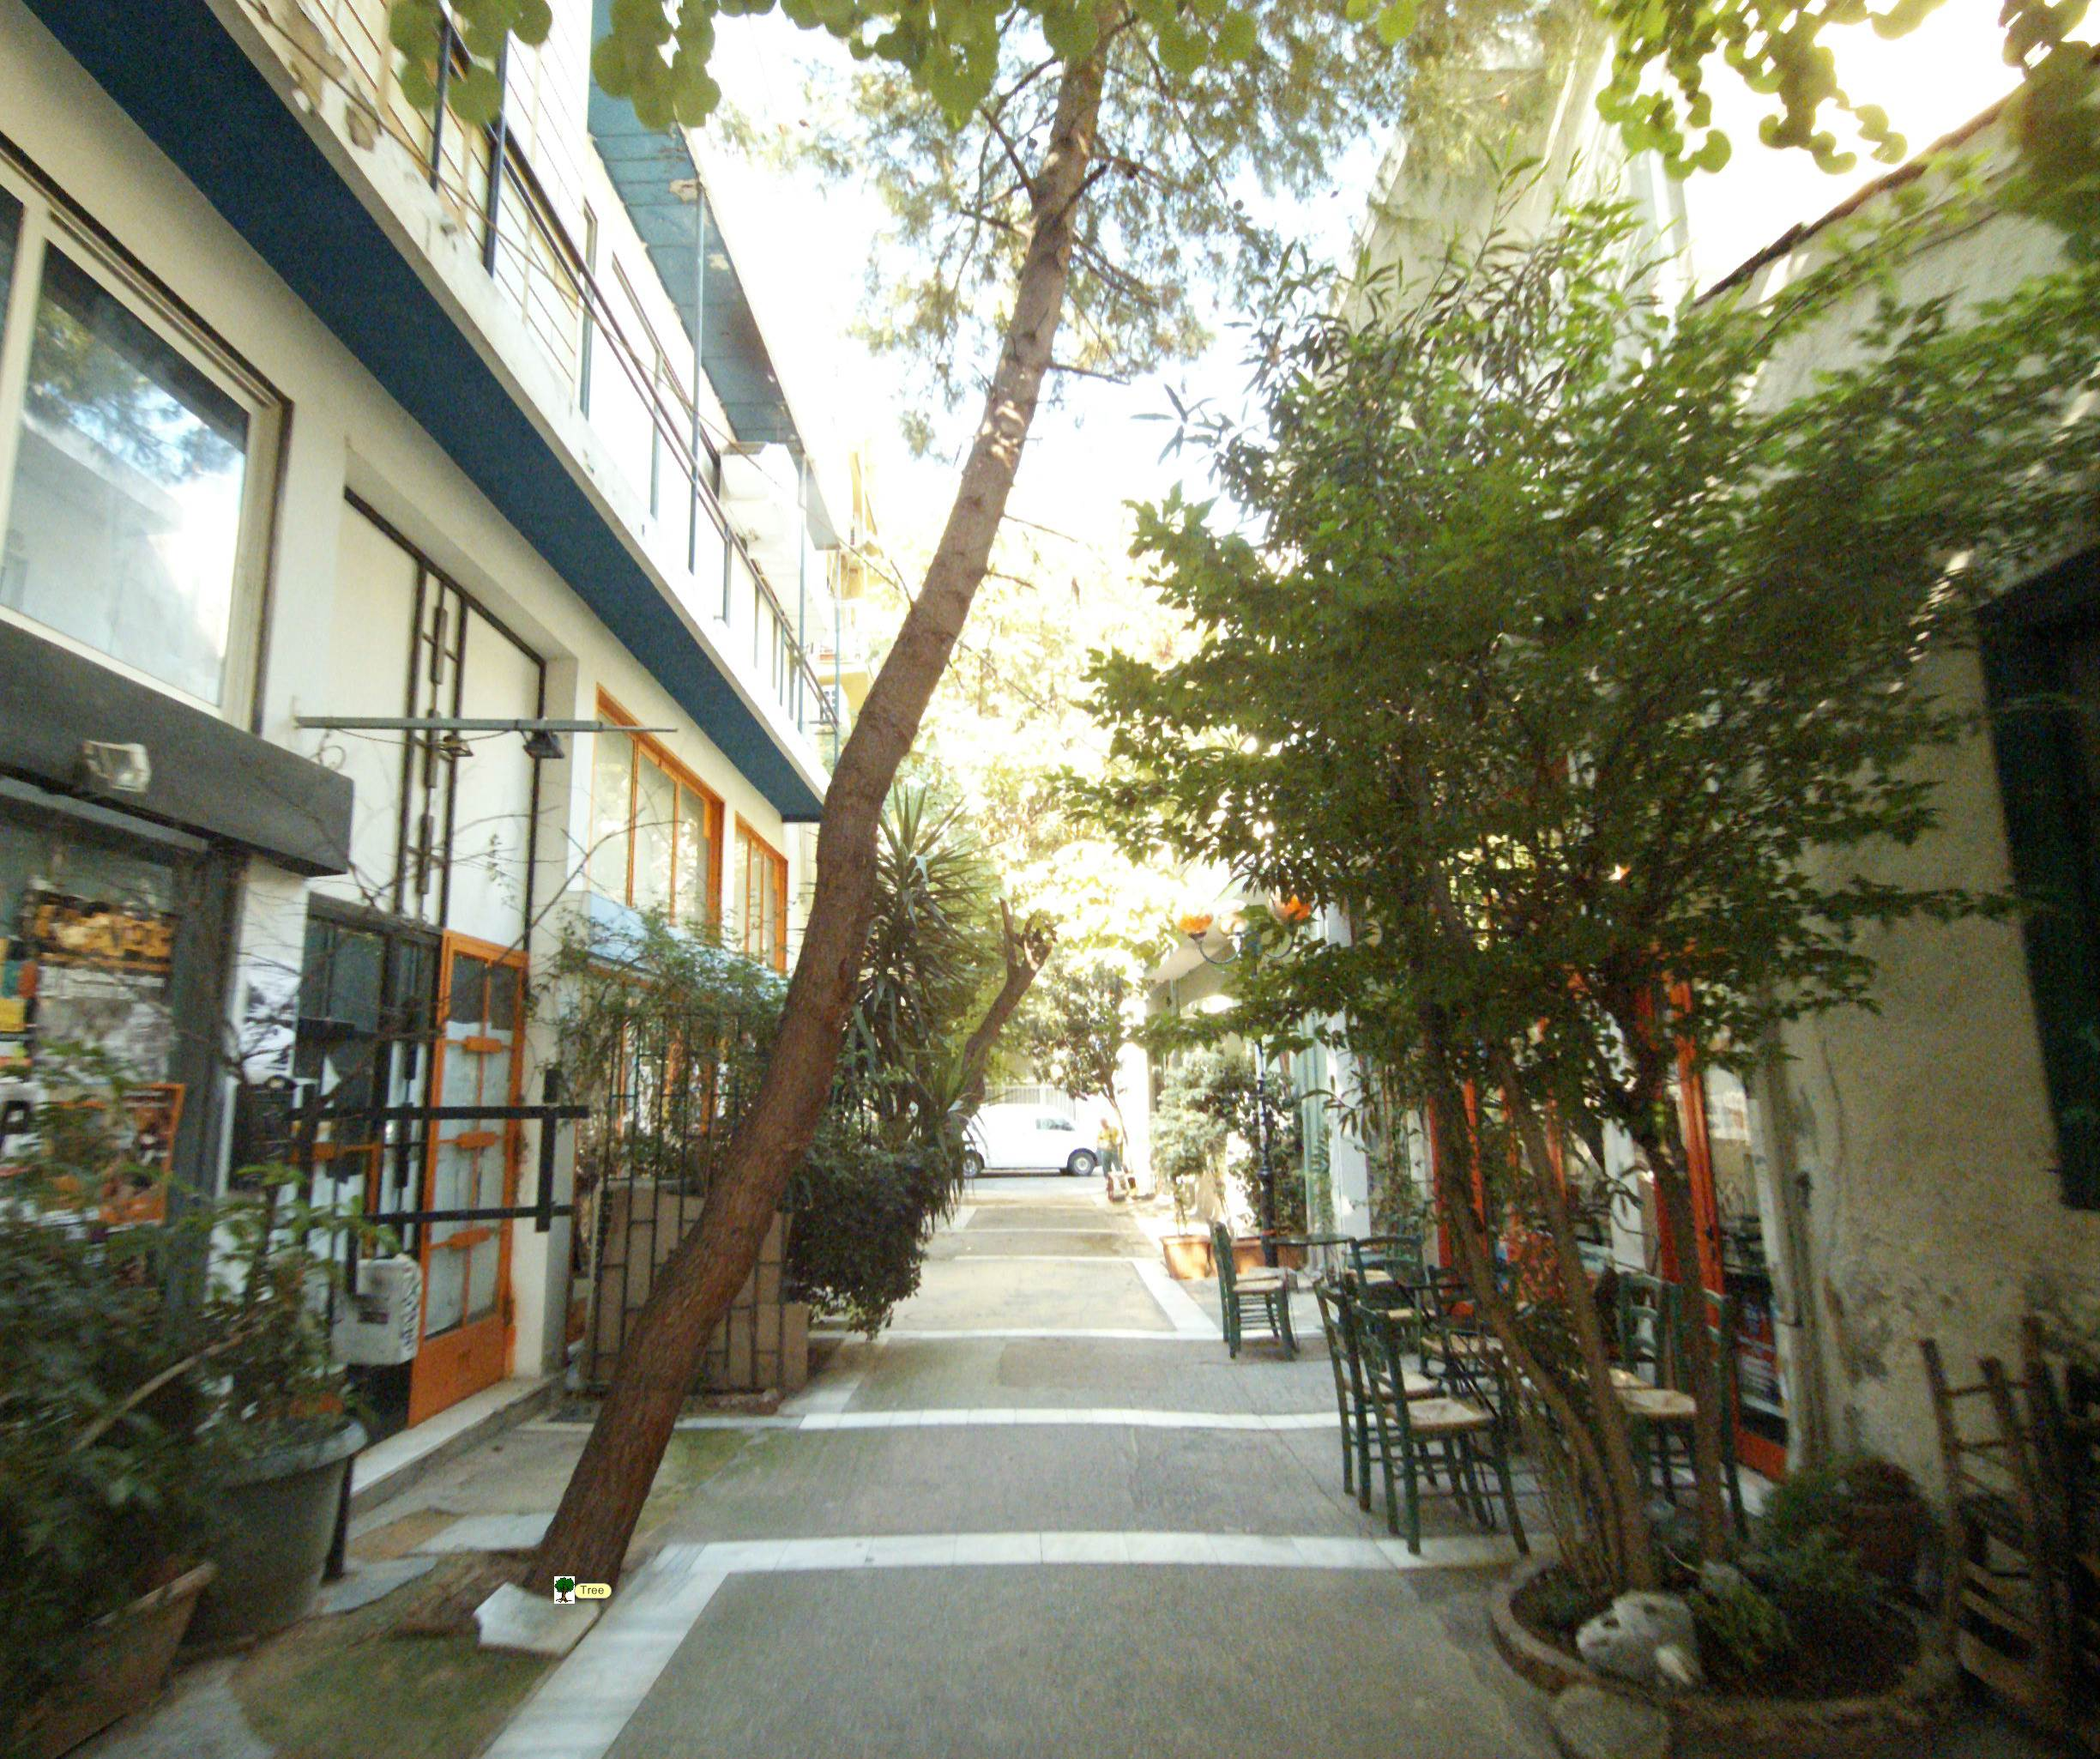tree: (1099, 269, 2028, 1591)
